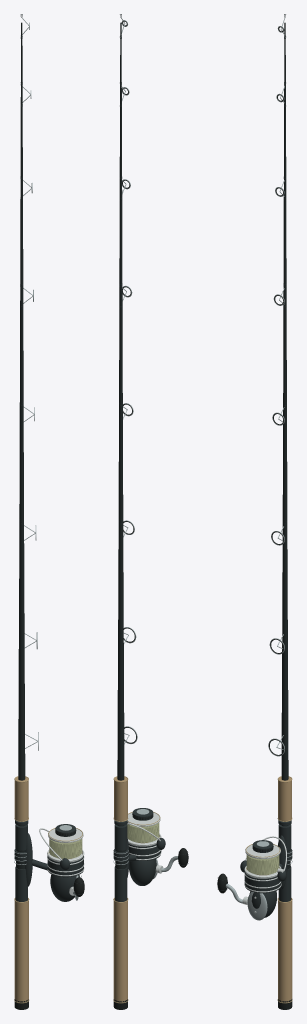
File: RodAndReel.fbx
3 renders of one model, left to right at view 1: azimuth 90°, elevation 25°; view 2: azimuth 150°, elevation 25°; view 3: azimuth 330°, elevation 25°, orthographic.
Visible parts, largest first — view 1: TaperedBlank_02, TaperedBlank_01, Turned cork grip, Turned cork grip.001, Sculpted gearbox, Rotor cup, Reel seat / locking collar.001, Foot clamp, Reel seat / locking collar.003, Machined spool lip.001; view 2: TaperedBlank_02, TaperedBlank_01, Turned cork grip, Sculpted gearbox, Turned cork grip.001, Reel seat / locking collar.001, Rotor cup, Reel seat / locking collar.003, Machined spool lip.001; view 3: TaperedBlank_02, TaperedBlank_01, Turned cork grip, Turned cork grip.001, Rotor cup, Gearbox inset, Sculpted gearbox, Reel seat / locking collar.001, Machined spool lip.001, Foot clamp, Reel seat / locking collar.003.
Boxes of the visible parts, <box> form: TaperedBlank_02: <box>19,22,23,519</box>; TaperedBlank_01: <box>18,519,25,826</box>; Turned cork grip: <box>14,899,28,1002</box>; Turned cork grip.001: <box>14,777,28,821</box>; Sculpted gearbox: <box>50,874,79,901</box>; Rotor cup: <box>47,855,83,877</box>; Reel seat / locking collar.001: <box>15,866,27,901</box>; Foot clamp: <box>25,833,32,886</box>; Reel seat / locking collar.003: <box>15,824,27,850</box>; Machined spool lip.001: <box>48,828,83,842</box>; TaperedBlank_02: <box>118,22,123,519</box>; TaperedBlank_01: <box>117,519,124,826</box>; Turned cork grip: <box>113,899,127,1002</box>; Sculpted gearbox: <box>129,859,156,885</box>; Turned cork grip.001: <box>114,777,127,821</box>; Reel seat / locking collar.001: <box>114,866,127,901</box>; Rotor cup: <box>128,844,161,860</box>; Reel seat / locking collar.003: <box>114,824,127,850</box>; Machined spool lip.001: <box>127,812,160,826</box>; TaperedBlank_02: <box>282,22,287,519</box>; TaperedBlank_01: <box>281,519,288,826</box>; Turned cork grip: <box>278,899,292,1002</box>; Turned cork grip.001: <box>278,777,291,821</box>; Rotor cup: <box>244,871,281,893</box>; Gearbox inset: <box>247,891,267,920</box>; Sculpted gearbox: <box>249,891,276,917</box>; Reel seat / locking collar.001: <box>278,866,291,901</box>; Machined spool lip.001: <box>245,844,280,858</box>; Foot clamp: <box>277,835,287,888</box>; Reel seat / locking collar.003: <box>278,824,291,850</box>.
Bounding box in the file's own units: 17.6 × 276 × 17.8.
